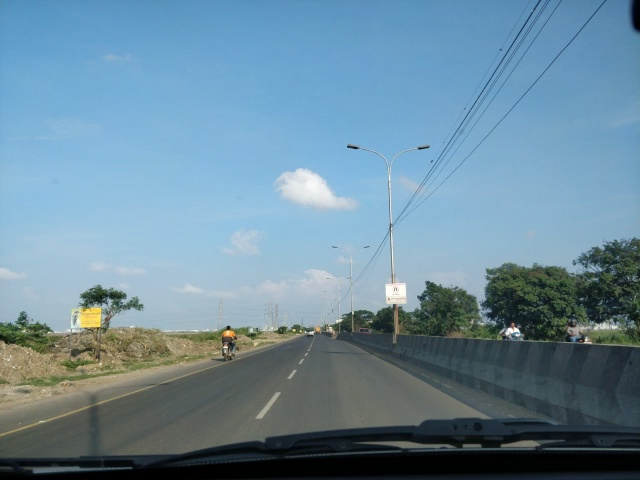car: (305, 328, 317, 338)
motorbike: (563, 317, 593, 362), (498, 322, 528, 360), (219, 323, 244, 365)
